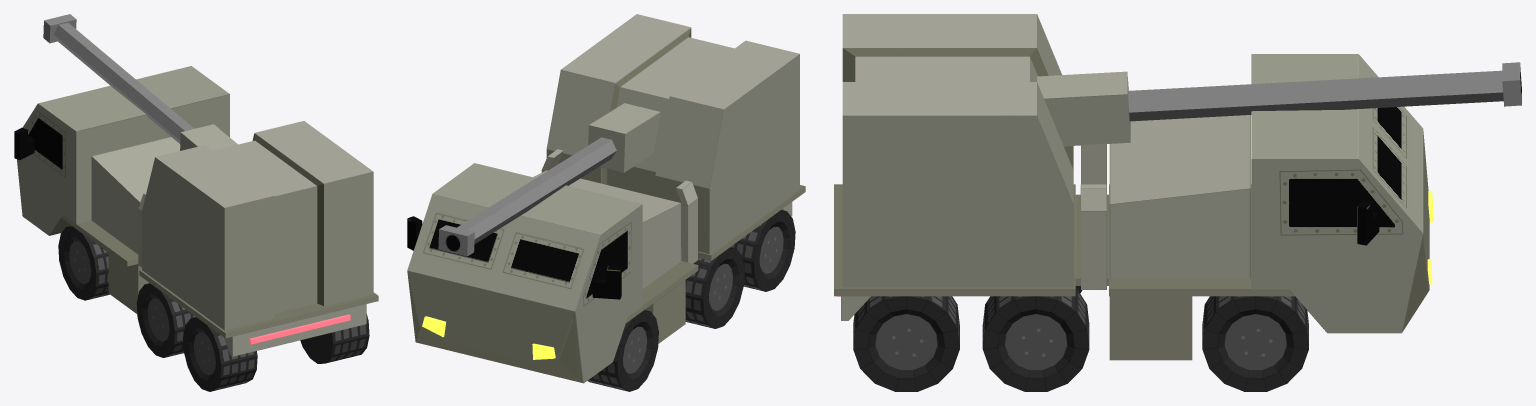
File: Artillery.gltf
3 views of the same model, side by side, from view 1: azimuth 30°, elevation 25°; view 2: azimuth 150°, elevation 25°; view 3: azimuth 270°, elevation 25° (orthographic). The views are drawn at different scales.
Visible parts, largest first — view 1: Turret, Cabin, Cube, Barrel, Wheel.003, Bed, Wheel.001, Wheel.002, Bumper, Wheel.006, Cube.001, TailLight (+1 smaller); view 2: Turret, Cabin, Barrel, Cube, Wheel.002, Wheel.003, Wheel.001, Bed, Cube.001, Stabilizer1, Mirror1, Mirror2; view 3: Turret, Cabin, Cube, Barrel, Wheel.005, Wheel.004, Wheel.006, Bed, Cube.001, Stabilizer2, Stabilizer1, Mirror2.
Boxes of the visible parts, x1=… form: Turret: x1=142, y1=121, x2=373, y2=330; Cabin: x1=17, y1=66, x2=229, y2=235; Cube: x1=91, y1=137, x2=180, y2=254; Barrel: x1=43, y1=14, x2=237, y2=150; Wheel.003: x1=183, y1=317, x2=257, y2=391; Bed: x1=61, y1=215, x2=378, y2=338; Wheel.001: x1=58, y1=225, x2=109, y2=300; Wheel.002: x1=136, y1=283, x2=195, y2=357; Bumper: x1=224, y1=304, x2=366, y2=356; Wheel.006: x1=300, y1=314, x2=369, y2=363; Cube.001: x1=108, y1=253, x2=149, y2=313; TailLight: x1=249, y1=314, x2=350, y2=344; Turret: x1=546, y1=14, x2=799, y2=254; Cabin: x1=407, y1=163, x2=642, y2=383; Barrel: x1=438, y1=103, x2=660, y2=256; Cube: x1=533, y1=170, x2=681, y2=288; Wheel.002: x1=685, y1=247, x2=744, y2=328; Wheel.003: x1=731, y1=210, x2=795, y2=291; Wheel.001: x1=587, y1=310, x2=658, y2=391; Bed: x1=626, y1=185, x2=805, y2=322; Cube.001: x1=645, y1=280, x2=685, y2=343; Stabilizer1: x1=676, y1=180, x2=697, y2=263; Mirror1: x1=592, y1=266, x2=621, y2=299; Mirror2: x1=407, y1=216, x2=422, y2=250; Turret: x1=842, y1=14, x2=1073, y2=287; Cabin: x1=1251, y1=54, x2=1429, y2=333; Cube: x1=1109, y1=115, x2=1250, y2=278; Barrel: x1=1037, y1=62, x2=1521, y2=146; Wheel.005: x1=982, y1=287, x2=1089, y2=391; Wheel.004: x1=1202, y1=296, x2=1308, y2=391; Wheel.006: x1=853, y1=296, x2=959, y2=391; Bed: x1=834, y1=184, x2=1294, y2=296; Cube.001: x1=1109, y1=296, x2=1192, y2=360; Stabilizer2: x1=1080, y1=184, x2=1106, y2=289; Stabilizer1: x1=1081, y1=144, x2=1106, y2=194; Mirror2: x1=1357, y1=199, x2=1379, y2=245.
Bounding box in the file's own units: 17.1 × 16.64 × 37.41.
Materials: 7 (5 with a texture image).
